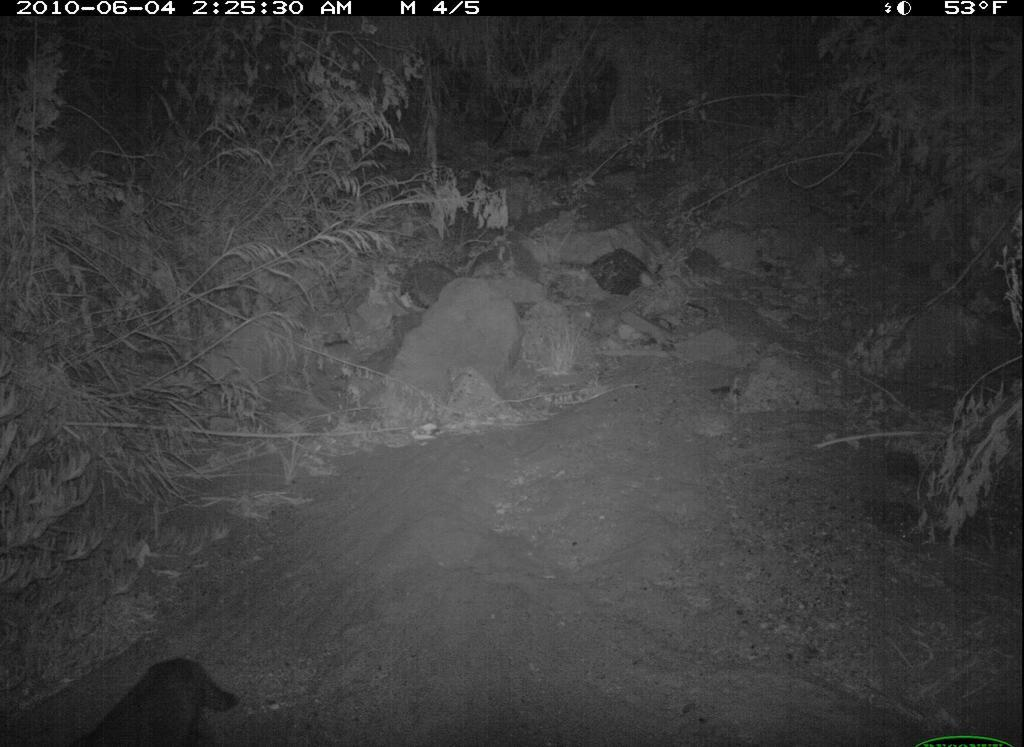cat: (66, 649, 245, 747)
